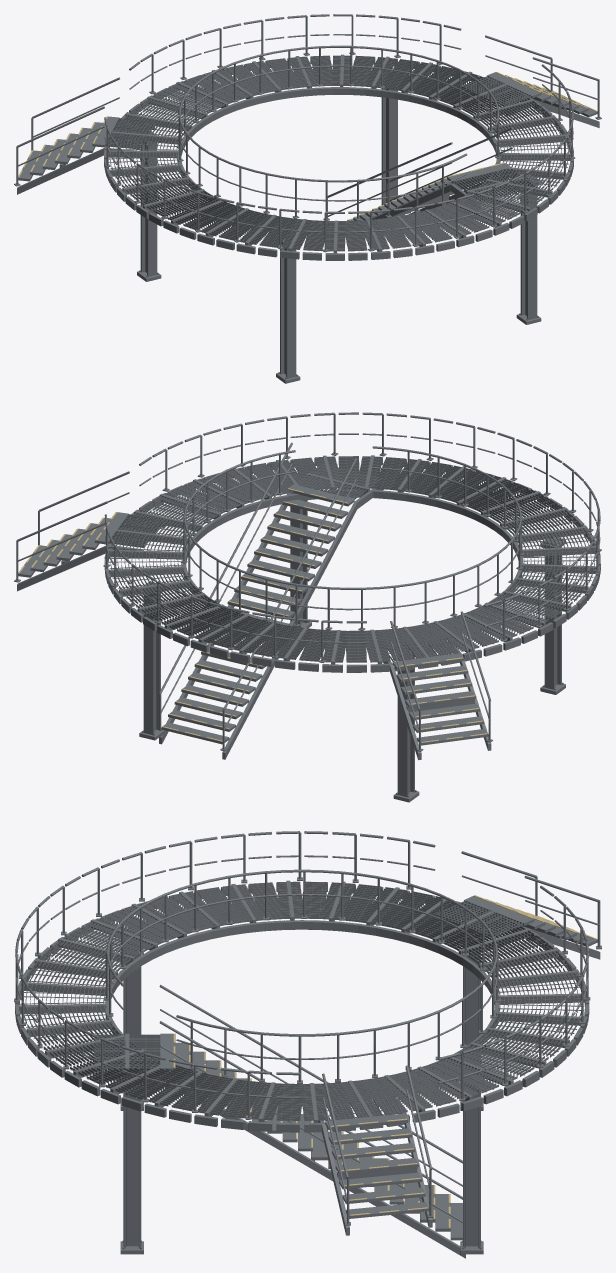
File: BN_E01_ServiceDeck_LOD1.fbx
The picture shows the model from 3 angles, top to bottom: view 1: azimuth 30°, elevation 25°; view 2: azimuth 150°, elevation 25°; view 3: azimuth 270°, elevation 25°; orthographic projection. The views are drawn at different scales.
Visible parts, largest first — view 1: BN_E01_ServiceDeck_LOD1; view 2: BN_E01_ServiceDeck_LOD1; view 3: BN_E01_ServiceDeck_LOD1.
Part boxes in pixels (x1,y1,x2,y2): BN_E01_ServiceDeck_LOD1: (14,14,601,383); BN_E01_ServiceDeck_LOD1: (14,412,601,802); BN_E01_ServiceDeck_LOD1: (14,831,601,1258).
Bounding box in the file's own units: 1313 × 480 × 1077.
